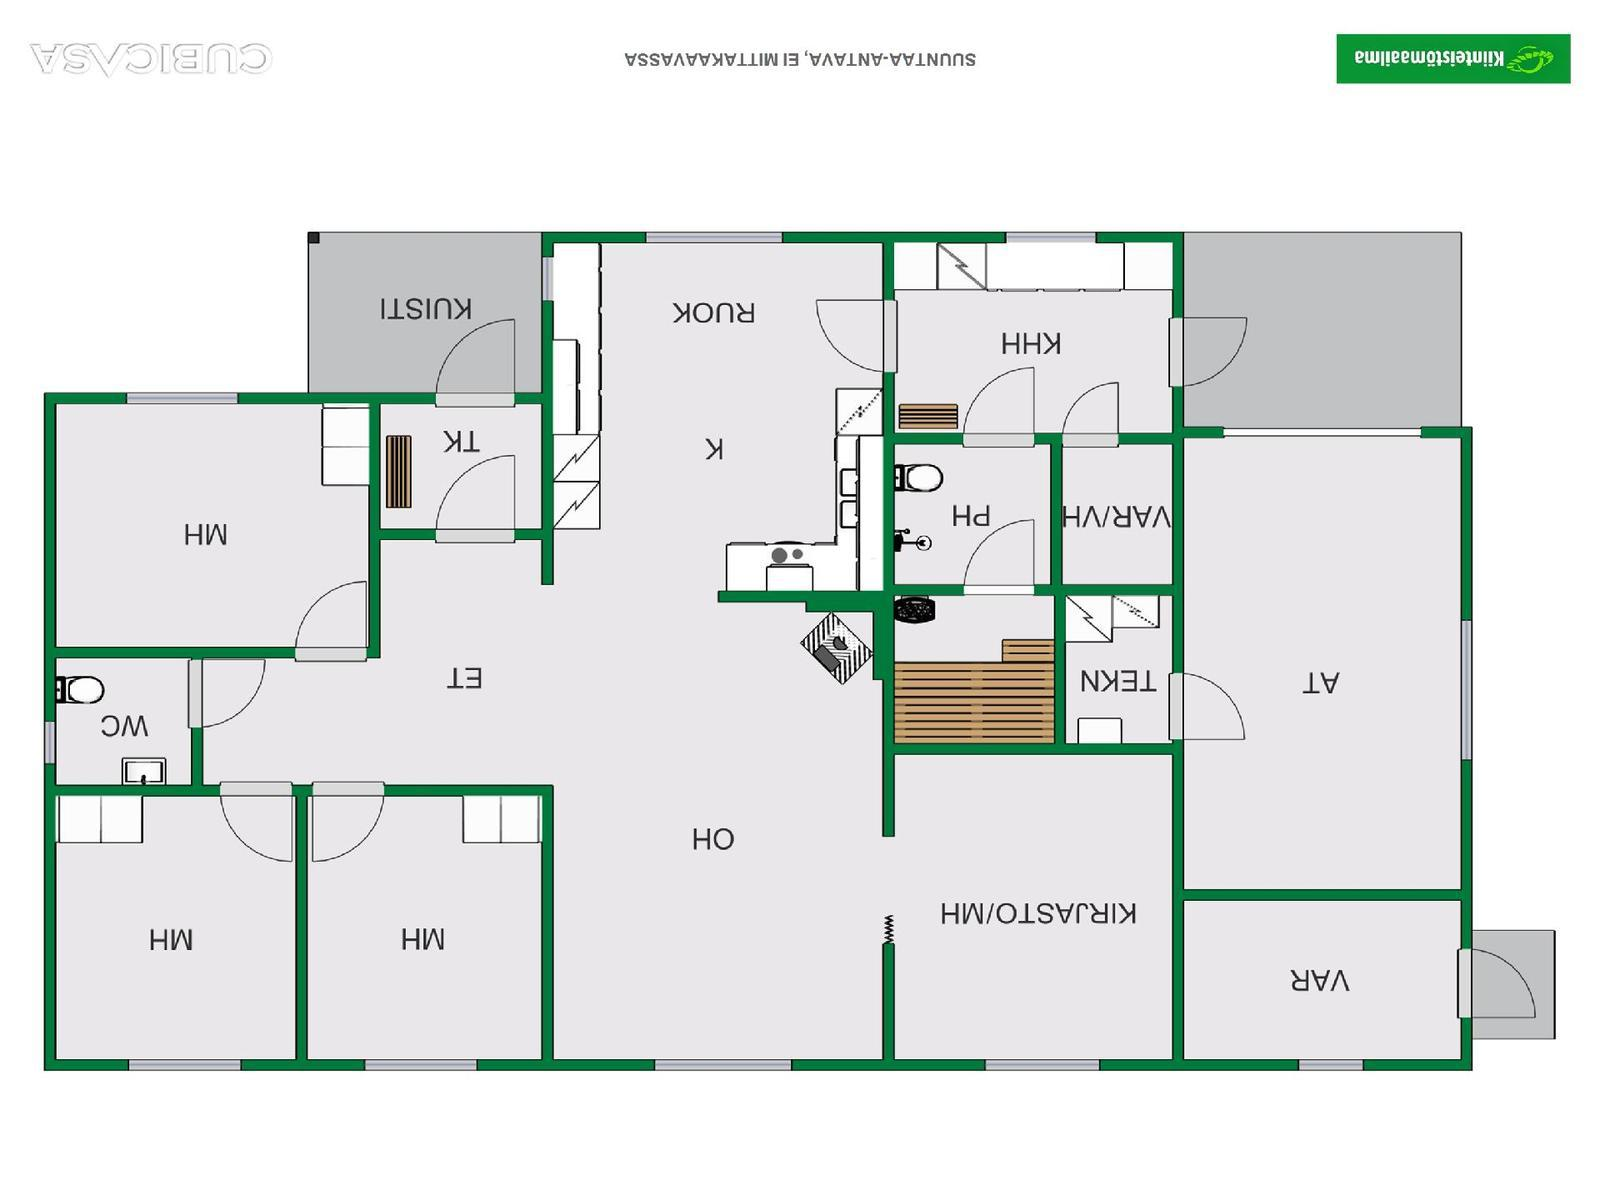door: (426, 315, 518, 413), (432, 450, 519, 547), (1448, 939, 1545, 1026), (810, 295, 905, 377), (215, 774, 294, 867), (1165, 309, 1252, 392), (304, 783, 391, 865), (1162, 668, 1254, 745), (294, 576, 373, 663), (959, 368, 1042, 450), (183, 658, 275, 731), (963, 519, 1039, 596), (1062, 379, 1125, 453)
window: (965, 1046, 1114, 1079), (640, 1051, 811, 1076), (631, 223, 795, 248), (353, 1049, 495, 1076), (111, 1050, 256, 1076), (1456, 606, 1479, 773), (117, 382, 251, 408), (999, 223, 1107, 251), (1288, 1050, 1372, 1078), (534, 243, 562, 310), (38, 712, 63, 774)
